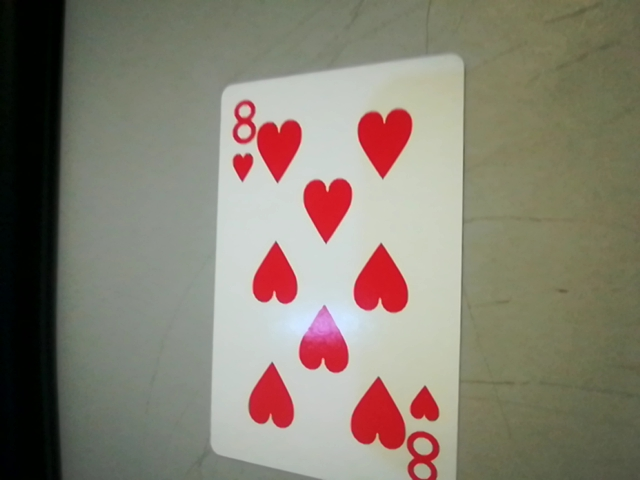hx 8: (219, 97, 265, 184)
